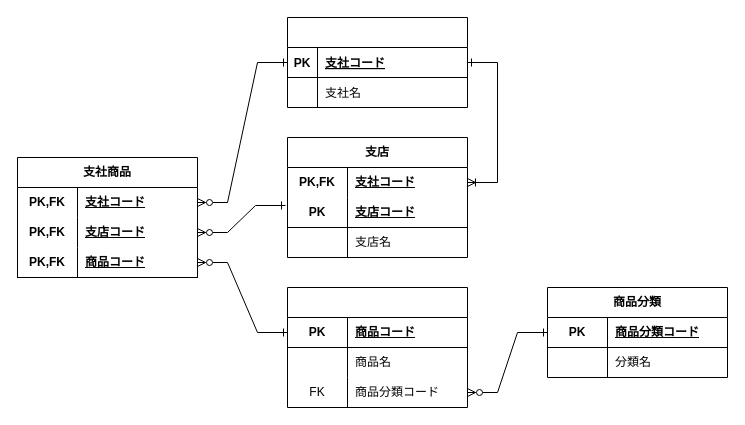
Image size: 745x425. Some labels were removed from this diagram. The shapes that lost their labels are listed below. From the top down, each one's box as (x1, y1, x2, y2) in pixels, then its label:
(286, 16, 468, 108): 支社
(286, 286, 468, 408): 商品
